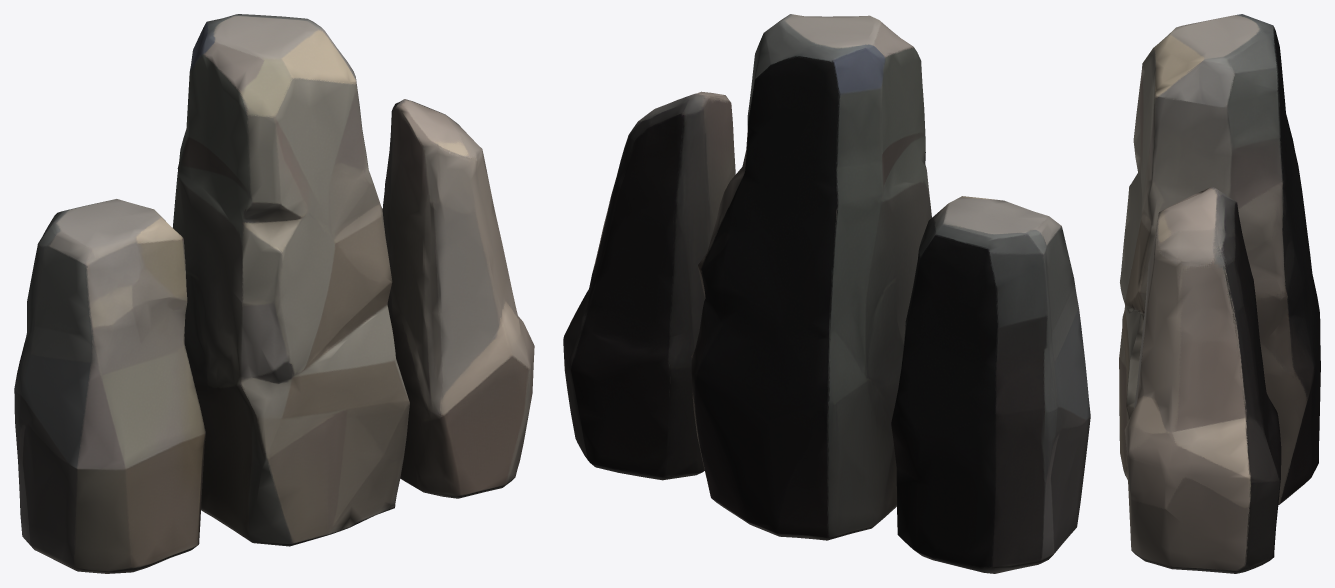
Rendered from standing_stones.glb.
3 views of the same model, side by side, from view 1: azimuth 30°, elevation 25°; view 2: azimuth 150°, elevation 25°; view 3: azimuth 270°, elevation 25° (orthographic). The views are drawn at different scales.
Visible parts, largest first — view 1: world; view 2: world; view 3: world.
Boxes of the visible parts, left/top/right/bottom form: world: left=14, top=14, right=534, bottom=573; world: left=563, top=14, right=1090, bottom=573; world: left=1119, top=14, right=1320, bottom=573.
Size of the model in its own units: 0.9999 by 0.9314 by 0.3904.
1 material, 1 textured.
